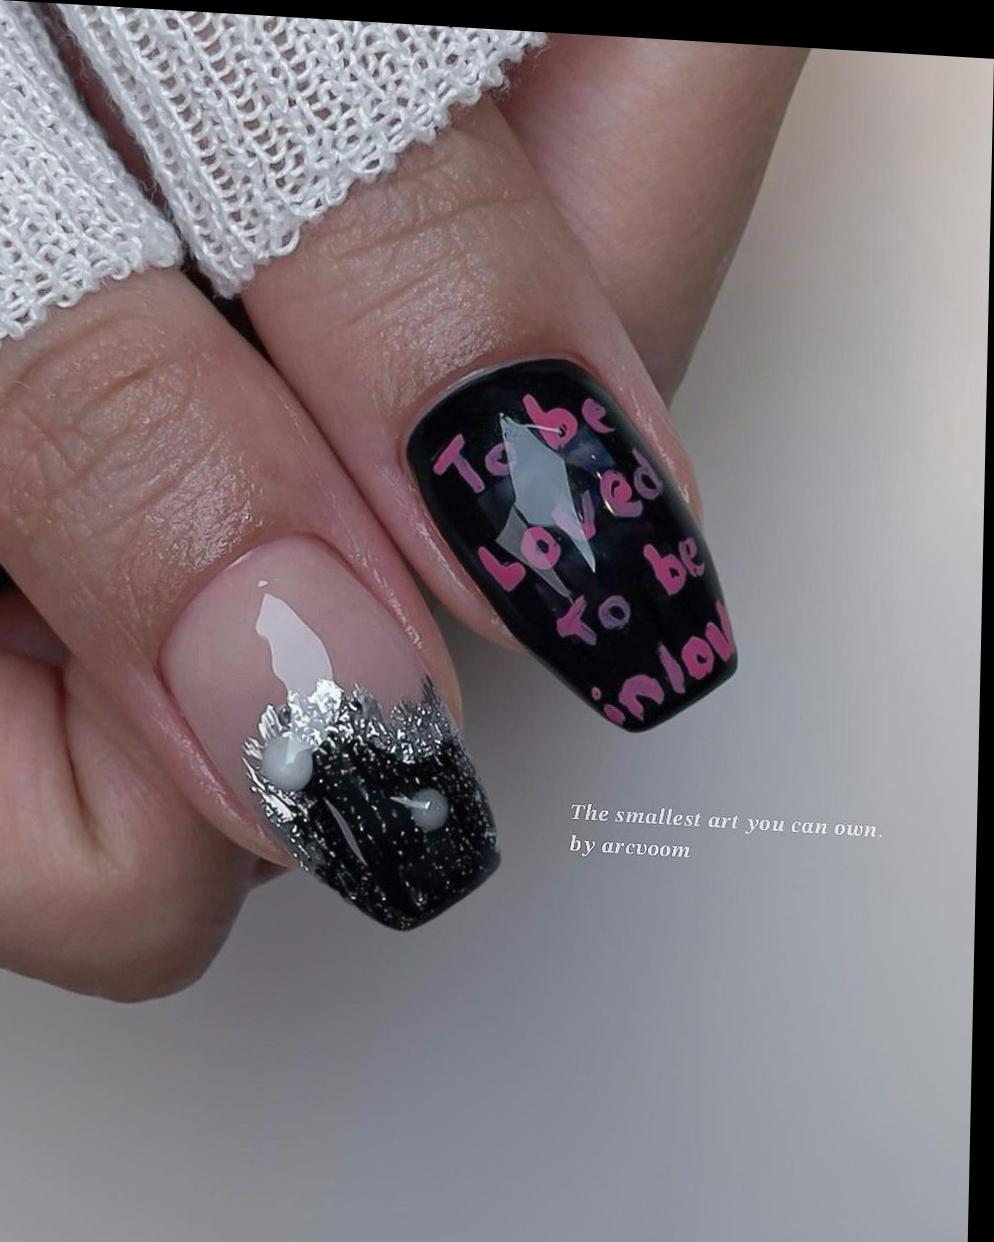nail: (149, 522, 507, 937), (395, 343, 745, 739)
